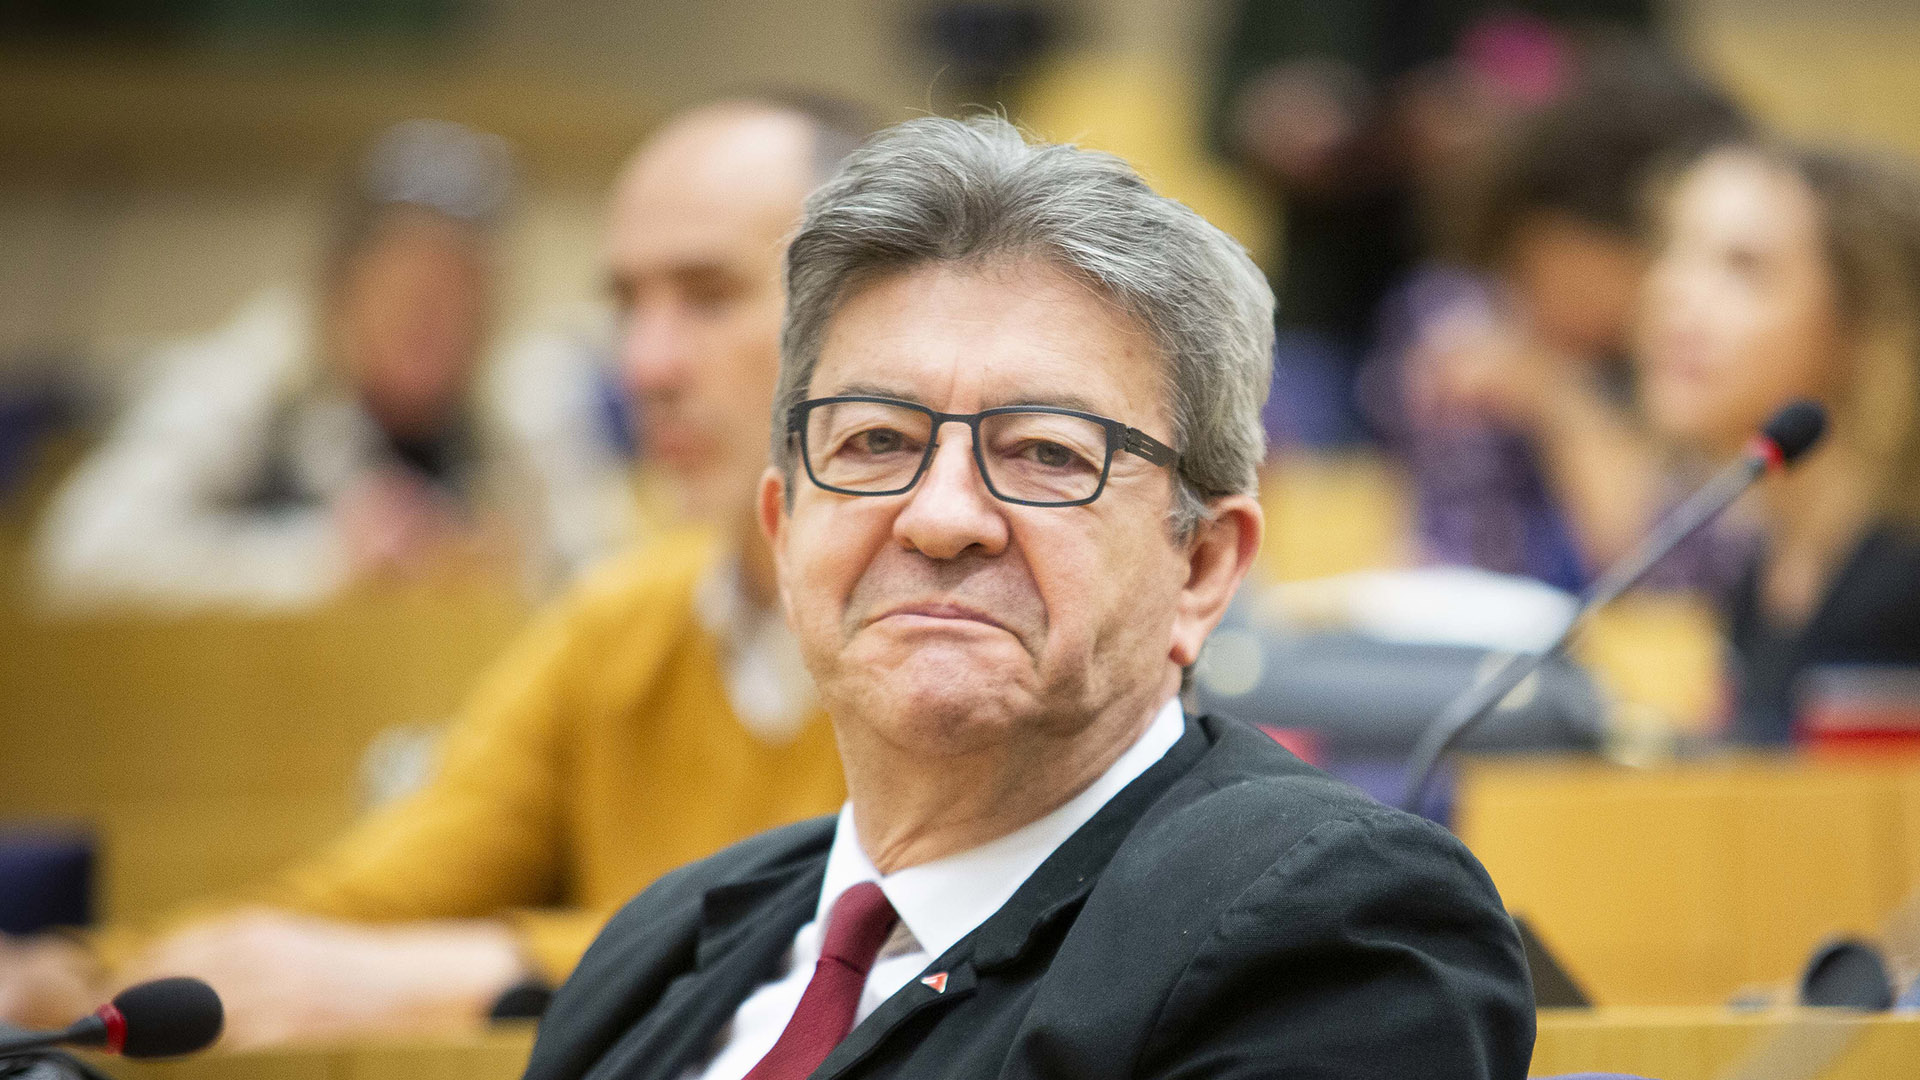without_mask: (777, 254, 1262, 763)
